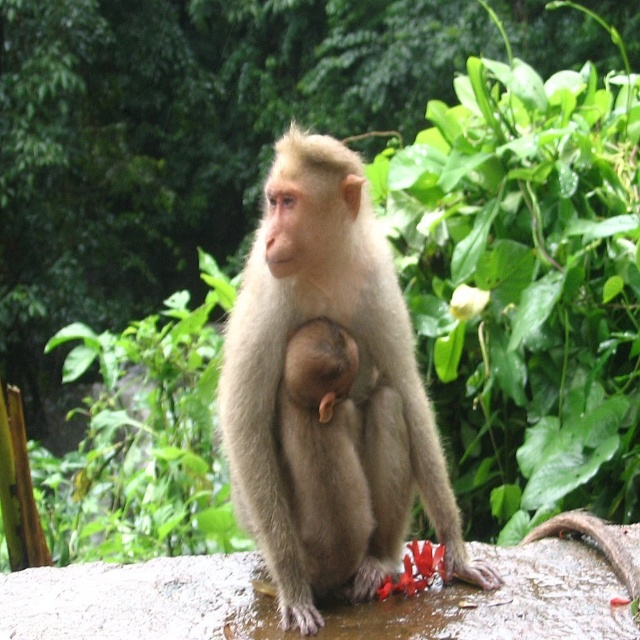Monkey: (219, 118, 636, 632)
